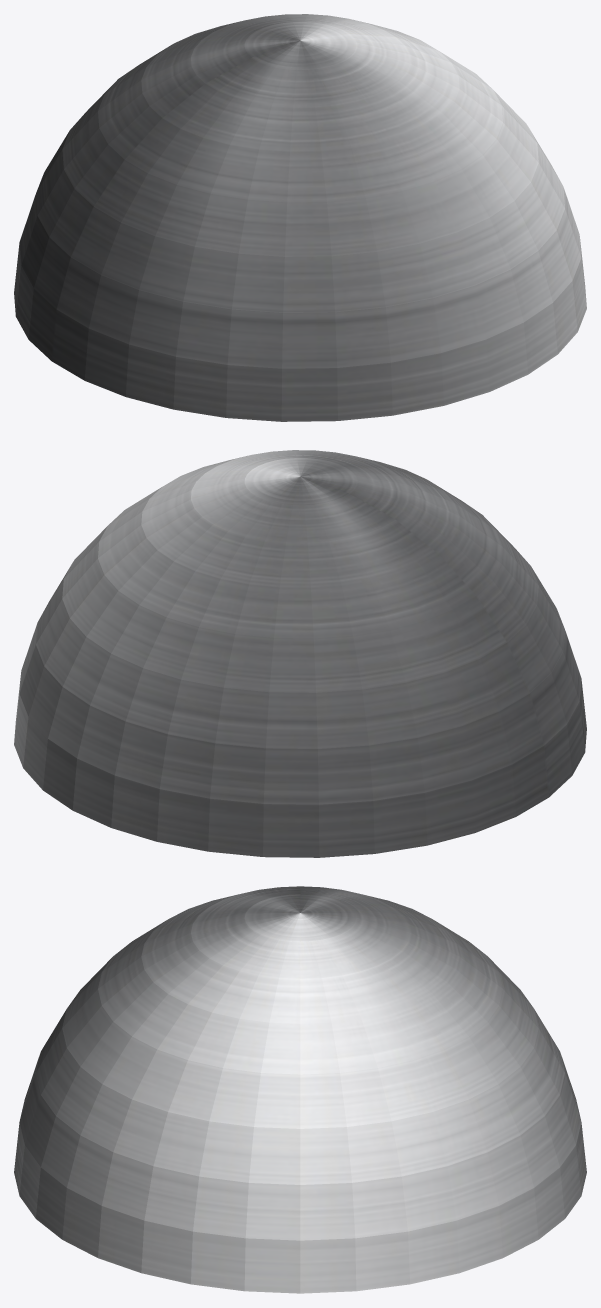
Rendered from Hierro.glb.
3 views of the same model, one above another, from view 1: azimuth 30°, elevation 25°; view 2: azimuth 150°, elevation 25°; view 3: azimuth 270°, elevation 25° (orthographic).
Parts seen in each view (by area): view 1: Esfera; view 2: Esfera; view 3: Esfera.
Part boxes in pixels (x1=…): Esfera: x1=14, y1=14, x2=586, y2=421; Esfera: x1=14, y1=450, x2=586, y2=857; Esfera: x1=14, y1=886, x2=586, y2=1293.
Size of the model in its own units: 2 by 1 by 2.
1 material, 1 textured.
